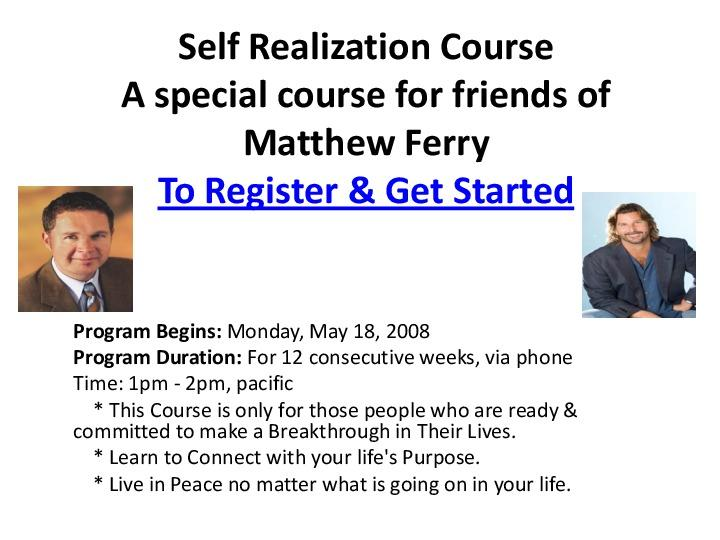paragraph: (64, 313, 635, 534)
subtitle: (151, 166, 590, 227)
title: (90, 21, 655, 164)
